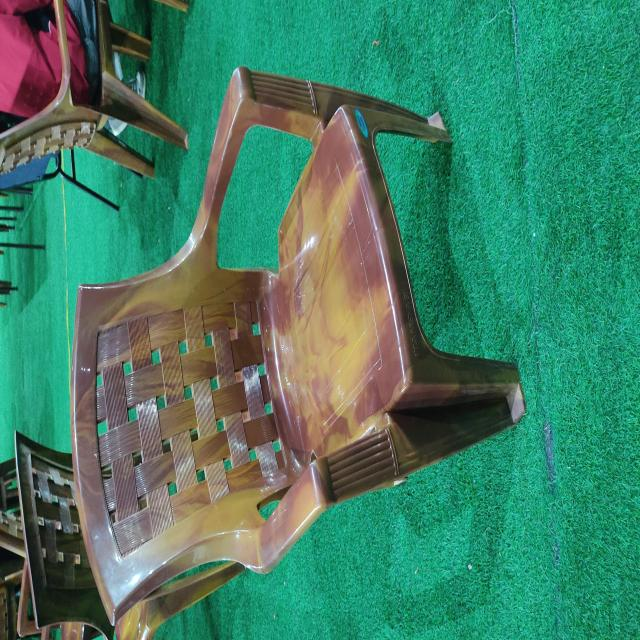Camer Stand: (68, 64, 527, 635)
Chair: (0, 0, 188, 196)
